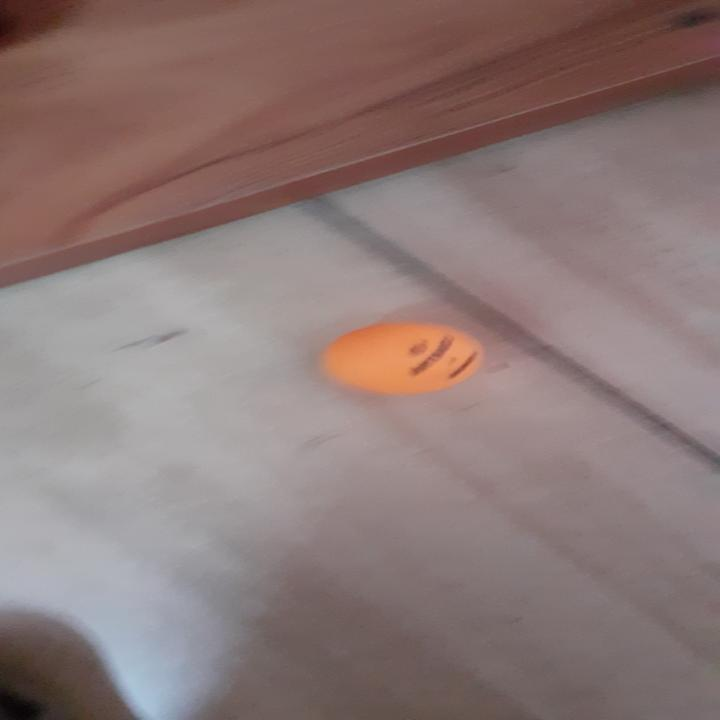orange: (326, 322, 482, 394)
